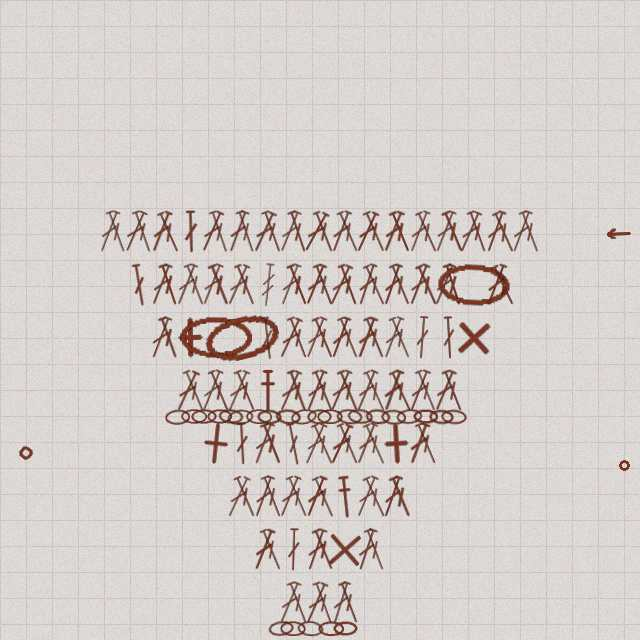chain: (200, 308, 283, 367), (436, 262, 512, 308), (179, 316, 252, 359), (290, 407, 318, 426), (227, 408, 254, 426), (297, 620, 324, 637), (336, 408, 363, 425), (396, 408, 423, 425), (268, 620, 294, 637), (218, 408, 244, 425), (275, 408, 301, 425), (347, 408, 373, 425), (365, 408, 391, 425), (441, 409, 467, 425), (165, 409, 190, 425), (257, 409, 282, 425), (381, 409, 406, 425), (429, 409, 454, 425), (280, 621, 306, 636), (318, 621, 344, 636), (181, 409, 207, 424), (191, 409, 217, 424), (246, 409, 272, 424), (317, 409, 343, 424), (333, 621, 358, 636), (207, 409, 232, 424), (307, 409, 332, 424), (413, 409, 438, 424)
double: (300, 210, 332, 254), (325, 263, 356, 307), (488, 263, 519, 307), (386, 474, 416, 519), (120, 209, 150, 254), (197, 209, 227, 254), (360, 209, 390, 254), (438, 209, 468, 254), (301, 581, 331, 625), (223, 475, 253, 519), (309, 475, 339, 519), (360, 475, 390, 519), (300, 422, 330, 466), (308, 422, 338, 466), (326, 422, 356, 466), (360, 422, 390, 466), (172, 369, 202, 413), (223, 369, 253, 413), (275, 369, 305, 413), (360, 369, 390, 413), (386, 369, 416, 413), (275, 316, 305, 360), (223, 263, 253, 307), (360, 263, 390, 307), (412, 263, 442, 307), (154, 210, 184, 254), (249, 210, 279, 254), (352, 210, 382, 254), (412, 210, 442, 254), (455, 210, 485, 254), (489, 210, 519, 254), (275, 580, 304, 625), (249, 527, 278, 572), (257, 527, 286, 572), (309, 527, 338, 572), (231, 474, 260, 519), (275, 474, 304, 519), (283, 474, 312, 519), (352, 474, 381, 519), (249, 421, 278, 466), (257, 421, 286, 466), (334, 421, 363, 466), (352, 421, 381, 466), (412, 421, 441, 466), (180, 368, 209, 413), (197, 368, 226, 413), (205, 368, 234, 413), (231, 368, 260, 413), (309, 368, 338, 413), (326, 368, 355, 413), (334, 368, 363, 413), (352, 368, 381, 413), (412, 368, 441, 413), (430, 368, 459, 413), (146, 315, 175, 360), (301, 315, 330, 360), (309, 315, 338, 360), (334, 315, 363, 360), (352, 315, 381, 360), (360, 315, 389, 360), (386, 315, 415, 360), (172, 262, 201, 307), (205, 262, 234, 307), (231, 262, 260, 307), (301, 262, 330, 307), (386, 262, 415, 307), (430, 262, 459, 307), (275, 209, 304, 254), (334, 209, 363, 254), (386, 209, 415, 254), (507, 209, 536, 254), (284, 580, 312, 625), (335, 580, 363, 625), (302, 527, 330, 572), (361, 527, 389, 572), (258, 474, 286, 519), (302, 474, 330, 519), (405, 421, 433, 466), (302, 368, 330, 413), (379, 368, 407, 413), (405, 368, 433, 413), (439, 368, 467, 413), (284, 315, 312, 360), (379, 315, 407, 360), (147, 262, 175, 307), (181, 262, 209, 307), (198, 262, 226, 307), (276, 262, 304, 307), (284, 262, 312, 307), (310, 262, 338, 307), (405, 262, 433, 307), (482, 262, 510, 307), (95, 209, 123, 254), (147, 209, 175, 254), (224, 209, 252, 254), (258, 209, 286, 254), (310, 209, 338, 254), (327, 209, 355, 254), (379, 209, 407, 254), (405, 209, 433, 254), (431, 209, 459, 254), (516, 209, 544, 254), (310, 580, 337, 625), (353, 527, 380, 572), (250, 474, 277, 519), (379, 474, 406, 519), (284, 368, 311, 413), (155, 315, 182, 360), (327, 315, 354, 360), (335, 262, 362, 307), (379, 262, 406, 307), (103, 209, 130, 254), (129, 209, 156, 254), (206, 209, 233, 254), (464, 209, 491, 254), (482, 209, 509, 254), (328, 580, 354, 625), (156, 262, 182, 307), (354, 262, 380, 307), (440, 262, 466, 307), (233, 209, 259, 254), (285, 209, 311, 254), (283, 422, 304, 466), (129, 263, 149, 307), (258, 316, 277, 360), (414, 316, 431, 359), (234, 422, 250, 465), (441, 316, 457, 359), (183, 210, 199, 253), (286, 528, 301, 571)
half_double: (335, 475, 355, 519), (259, 369, 276, 412)
noise: (604, 228, 631, 239), (17, 444, 34, 461), (617, 458, 631, 472)
single: (193, 420, 239, 467), (322, 527, 367, 572), (374, 421, 419, 466), (451, 315, 496, 360), (169, 316, 212, 359)
treble: (259, 263, 277, 307)
